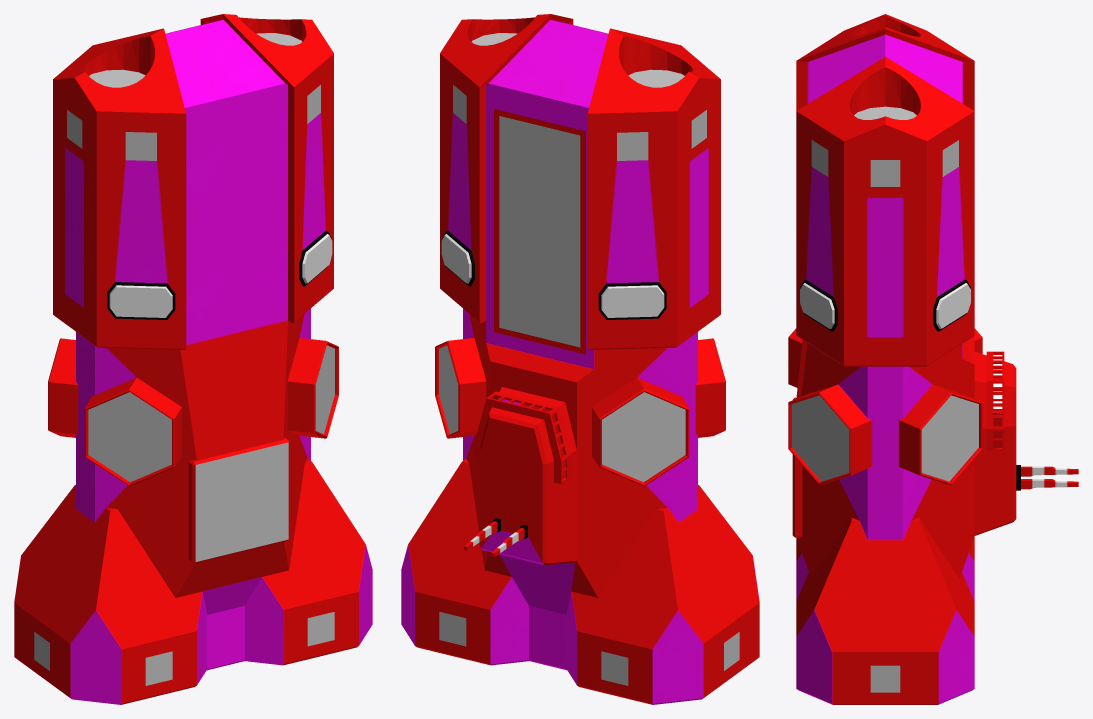
File: Wicher8.fbx
3 renders of one model, left to right at view 1: azimuth 30°, elevation 25°; view 2: azimuth 150°, elevation 25°; view 3: azimuth 270°, elevation 25°, orthographic. The views are drawn at different scales.
Parts seen in each view (by area): view 1: Hull_LOD0; view 2: Hull_LOD0; view 3: Hull_LOD0.
Boxes of the visible parts, bbox=[...] form: Hull_LOD0: bbox=[14, 14, 372, 704]; Hull_LOD0: bbox=[401, 14, 759, 704]; Hull_LOD0: bbox=[788, 14, 1078, 704].
Bounding box in the file's own units: 280 × 550 × 244.
